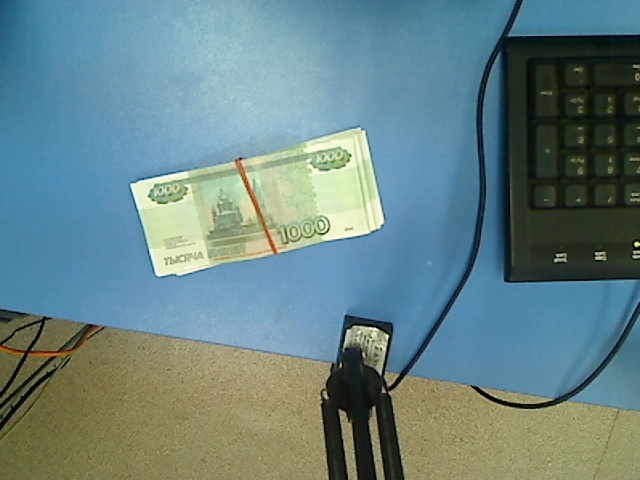banknotes: (126, 124, 387, 280)
